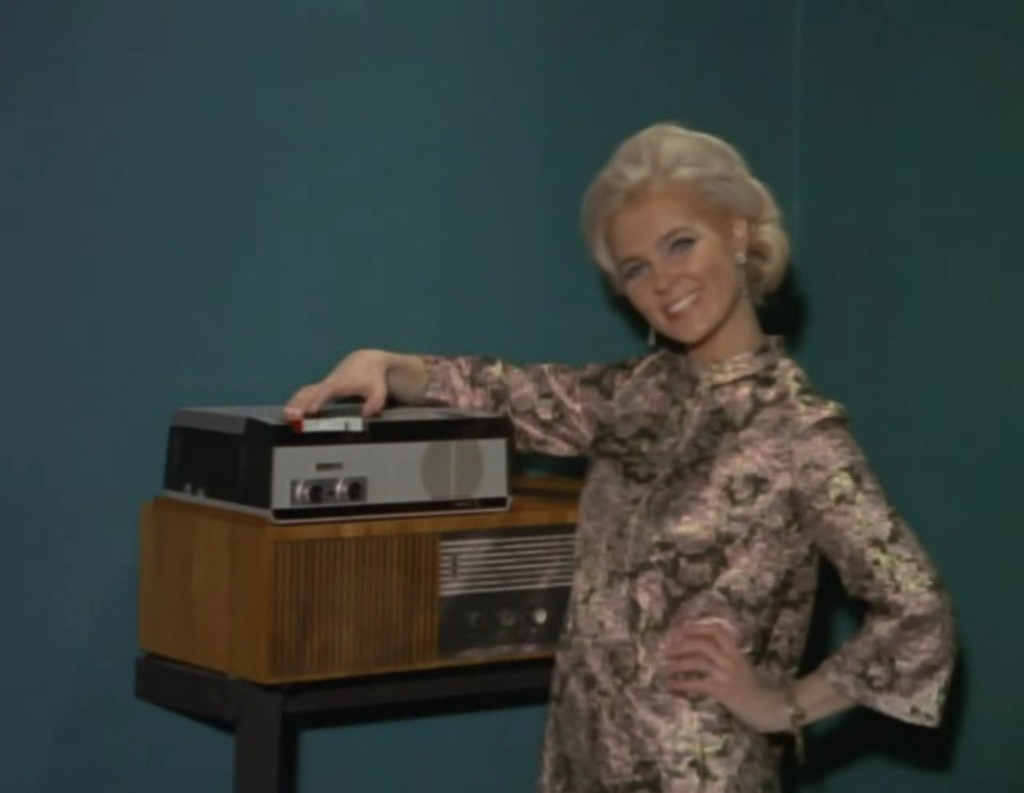Human-face: (603, 183, 742, 351)
